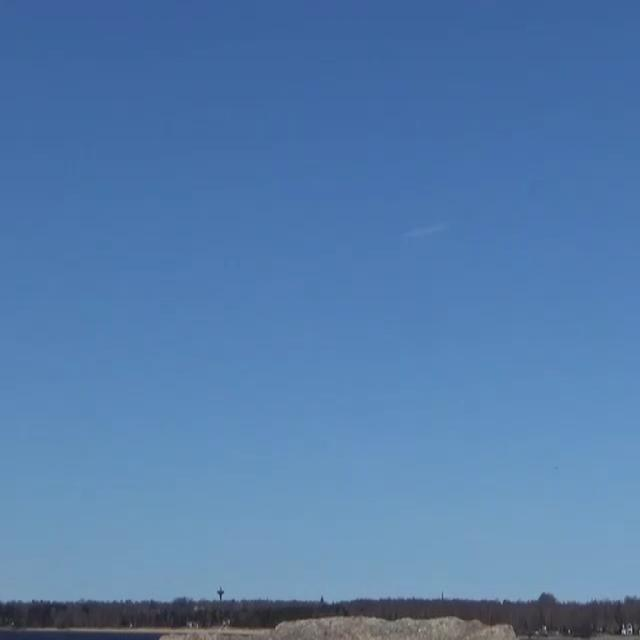AirPlane: (546, 452, 573, 483)
